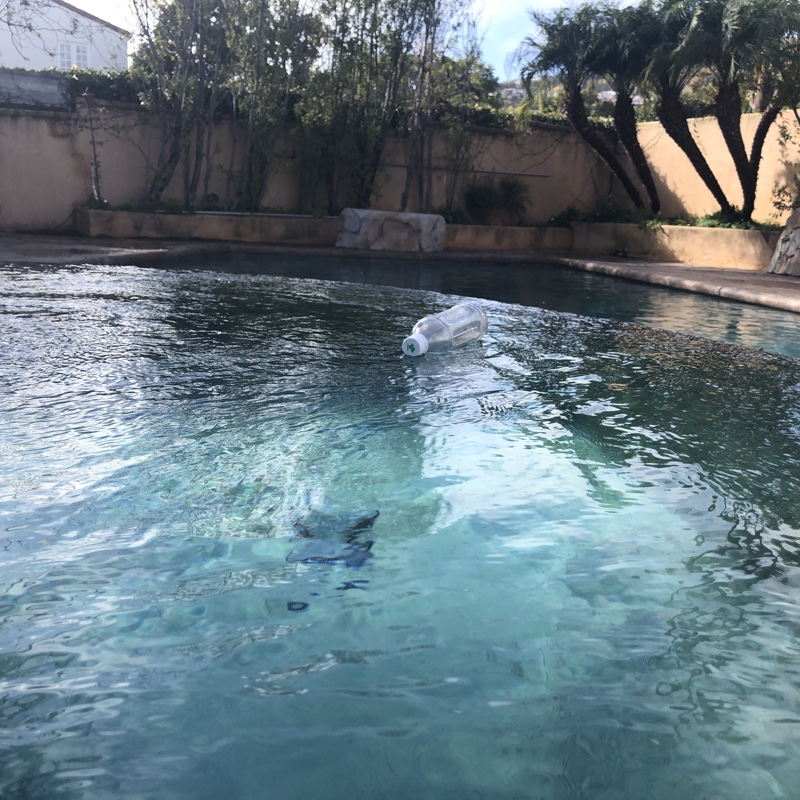Plastic Bottle: (398, 296, 491, 359)
